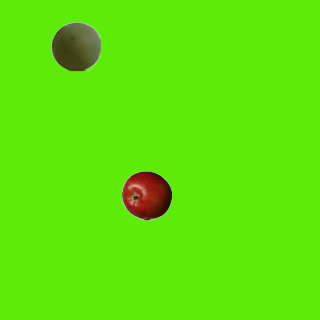Apple Braeburn: (121, 170, 171, 220)
Grape White 4: (50, 21, 100, 71)
